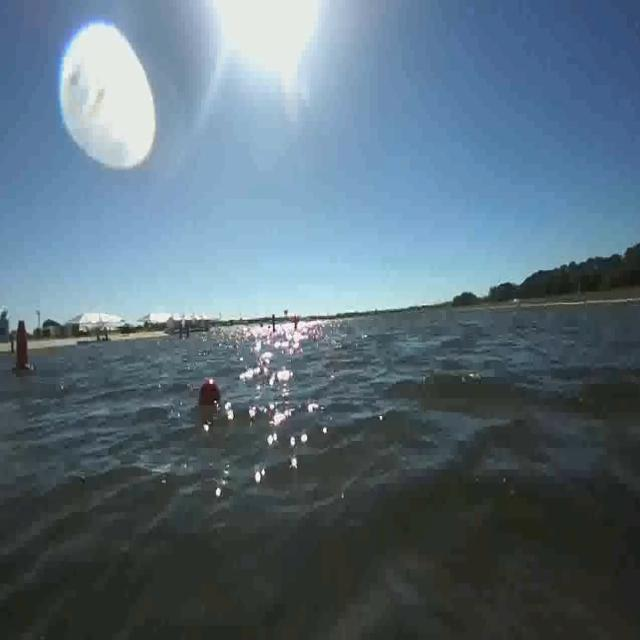green-column-buoy: (8, 332, 16, 361)
red-buoy: (197, 376, 223, 414)
red-column-buoy: (14, 319, 33, 375)
